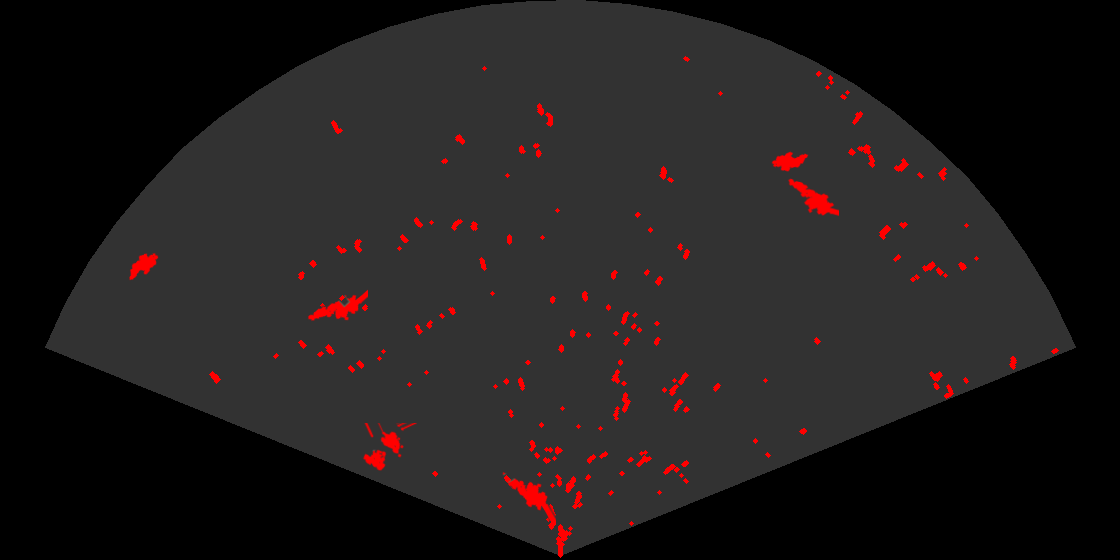AUV: (127, 251, 160, 282), (770, 150, 810, 173)
cage: (361, 423, 417, 472)
frogman: (501, 470, 556, 521), (786, 177, 839, 218), (306, 288, 368, 323)
